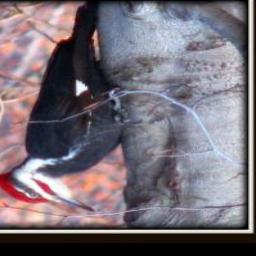Woodpecker: (0, 0, 143, 213)
